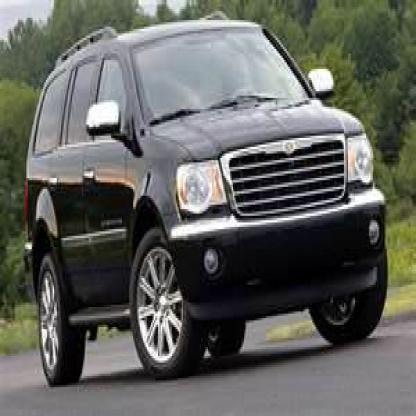Vehicle: (24, 11, 391, 385)
